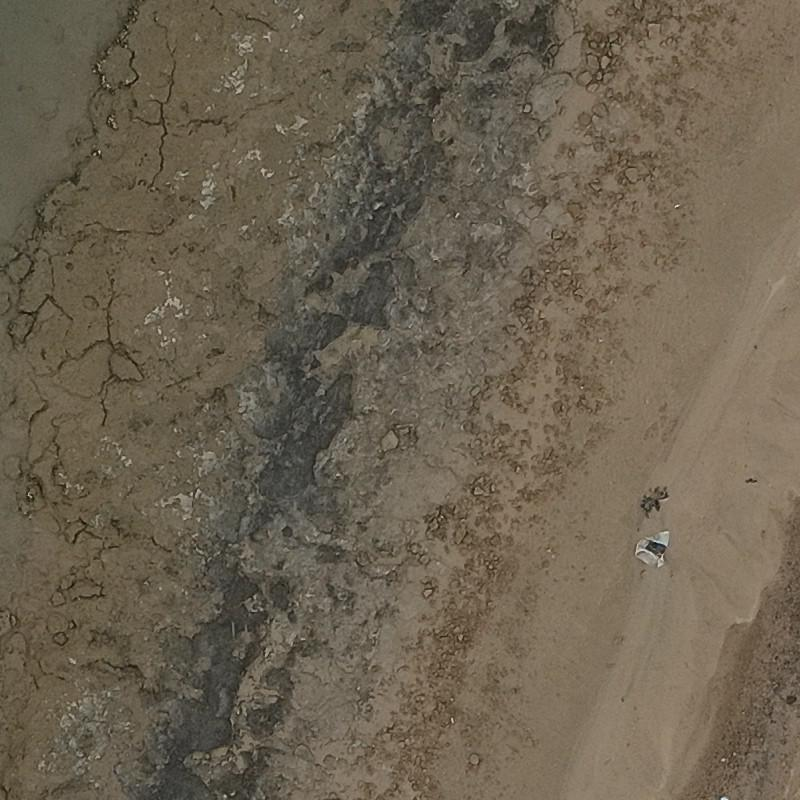coastal_litter: (634, 532, 669, 568), (640, 484, 669, 517)
